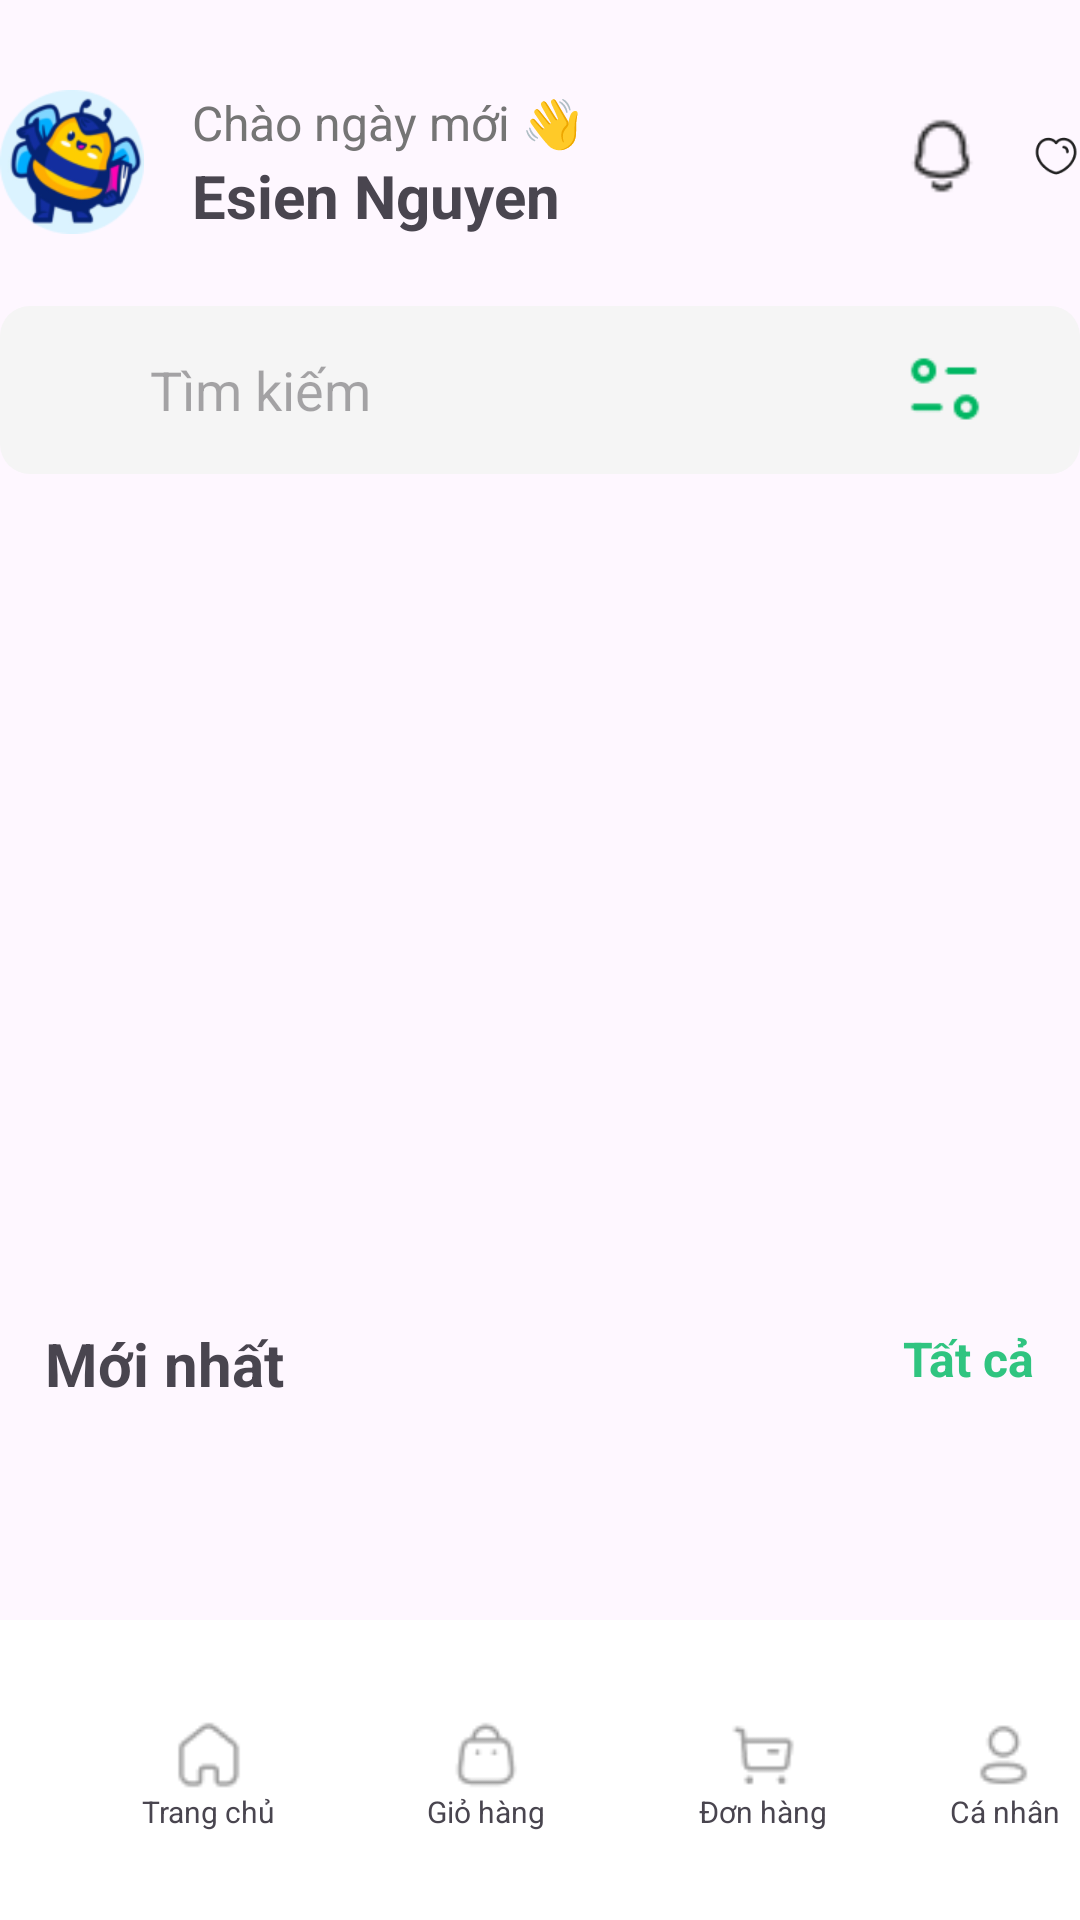

Where icons sit on this 1080×1920 app screen, as box(x1, y1, x2, y2):
bag: box(457, 1723, 515, 1785)
bee: box(0, 90, 144, 234)
buy: box(734, 1726, 793, 1785)
custom: box(910, 358, 980, 420)
heart: box(1035, 137, 1077, 175)
notification: box(913, 120, 971, 193)
